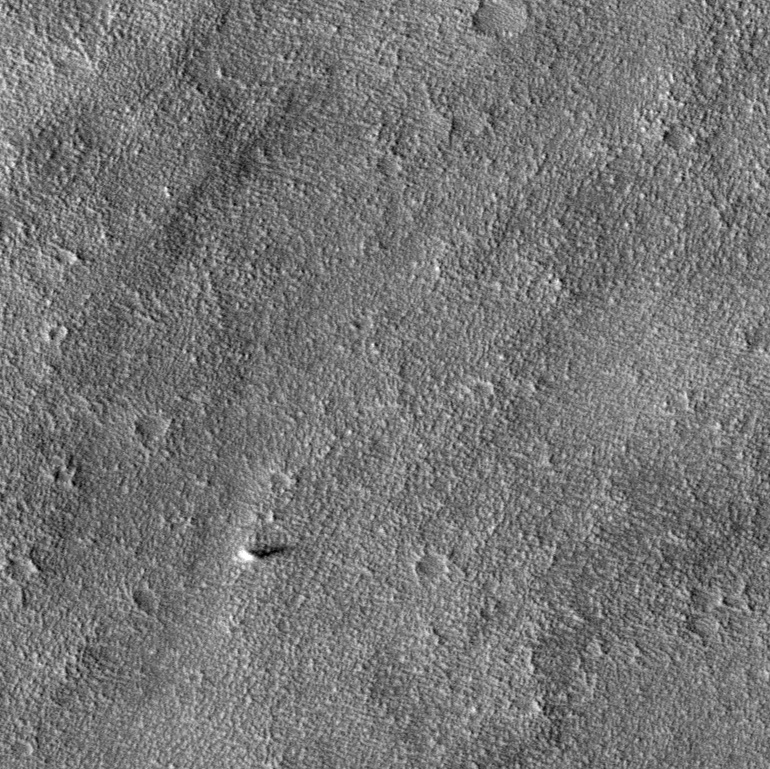dust_devil: (233, 542, 294, 563)
